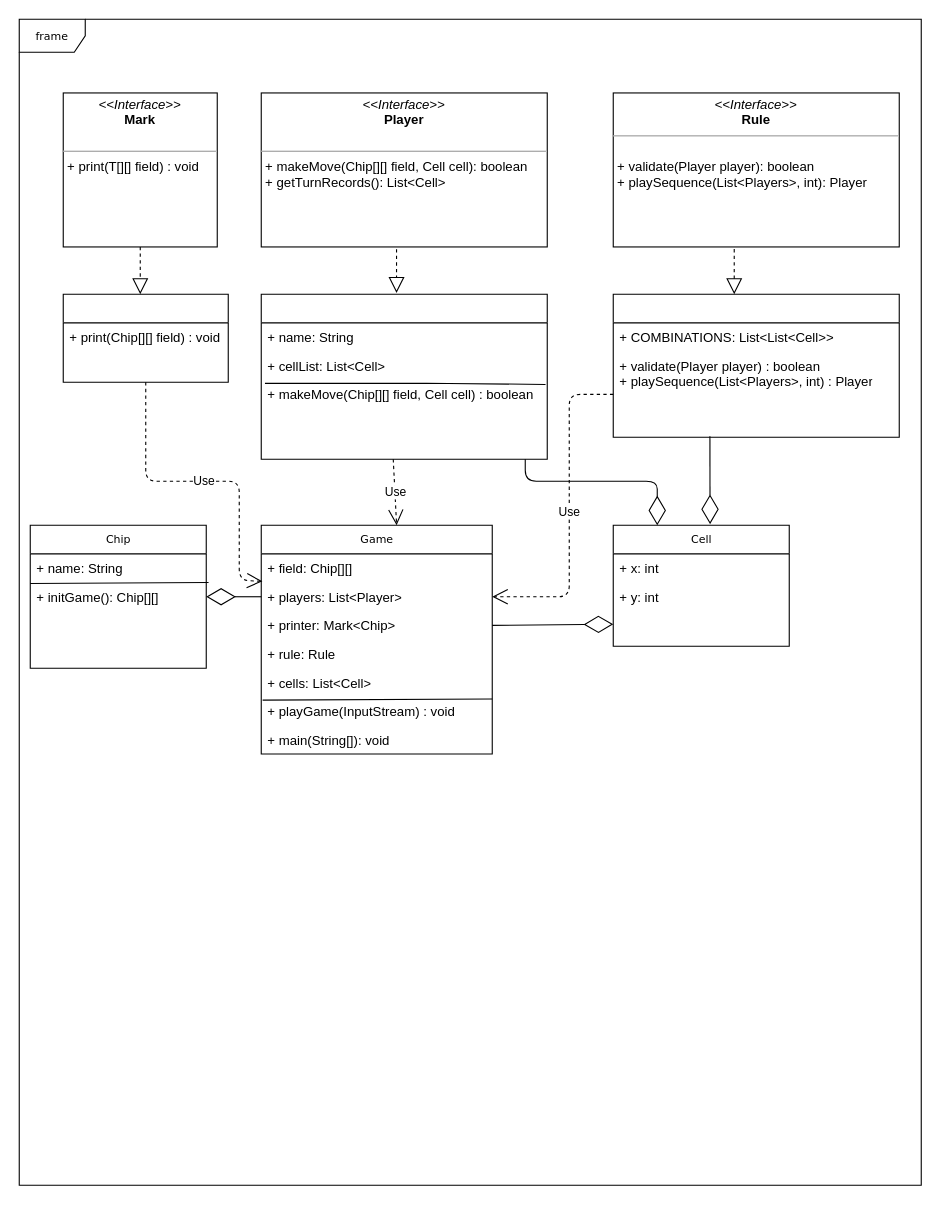
This 941x1205 diagram has some shape labels left out. Each missing label, with the box of its shape:
ChipPint: (62, 293, 228, 382)
TicTacToePlayer: (260, 293, 547, 459)
TicTacToeRule: (612, 293, 899, 437)
